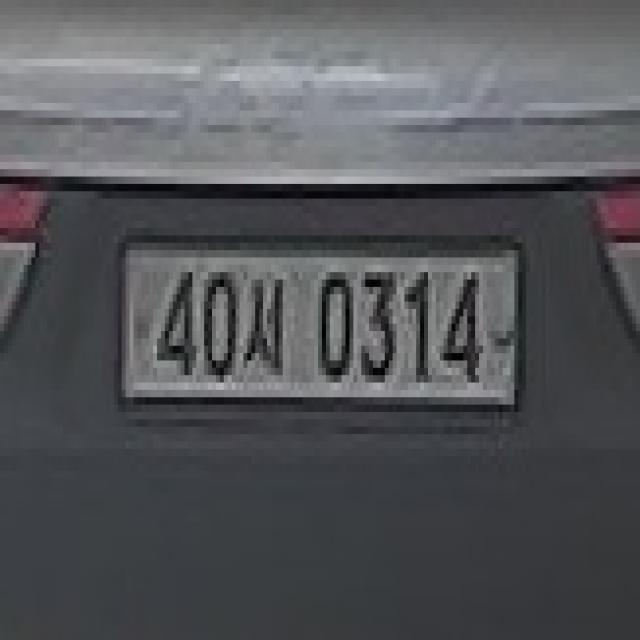0: (314, 265, 353, 382), (200, 265, 236, 382)
1: (400, 272, 436, 383)
3: (357, 265, 397, 390)
4: (432, 272, 483, 390), (150, 265, 197, 382)
license_plate: (114, 228, 522, 419)
seo: (244, 265, 286, 375)
